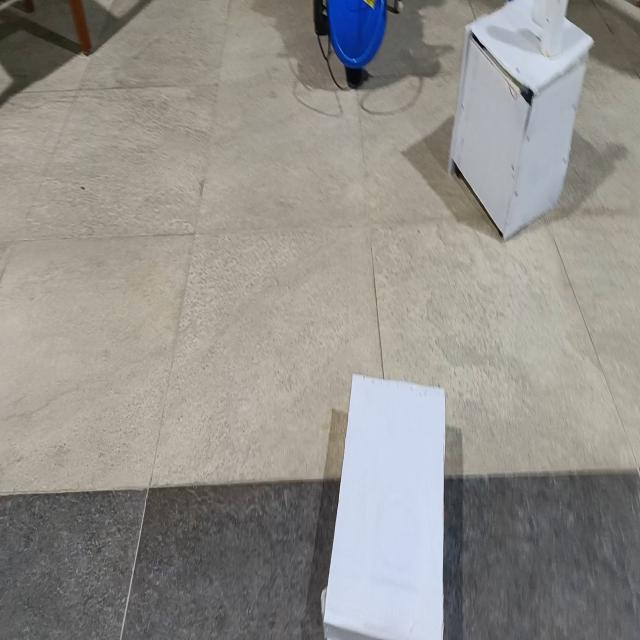Cube: (448, 0, 595, 241)
Cuboid: (322, 370, 446, 637)
